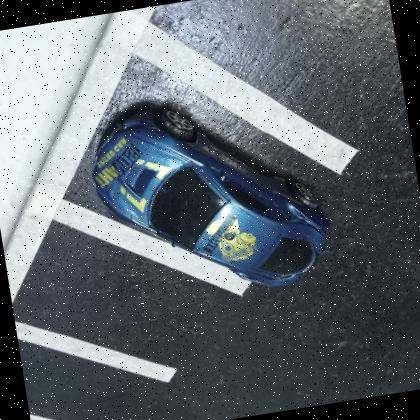Car: (90, 105, 329, 286)
